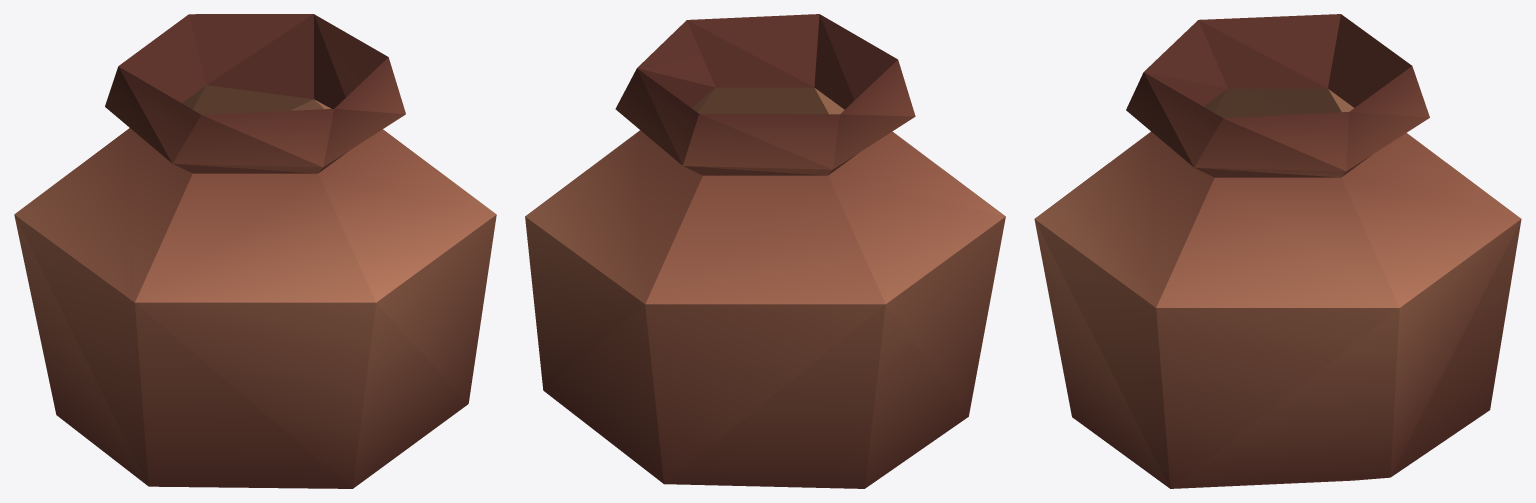
Rendered from Mixed_Vase_01.fbx.
3 views of the same model, side by side, from view 1: azimuth 30°, elevation 25°; view 2: azimuth 150°, elevation 25°; view 3: azimuth 270°, elevation 25° (orthographic).
Visible parts, largest first — view 1: Vase_01.001; view 2: Vase_01.001; view 3: Vase_01.001.
Boxes of the visible parts, left/top/right/bottom form: Vase_01.001: left=14, top=14, right=496, bottom=488; Vase_01.001: left=525, top=14, right=1005, bottom=488; Vase_01.001: left=1034, top=14, right=1521, bottom=488.
Size of the model in its own units: 128 by 120 by 147.
